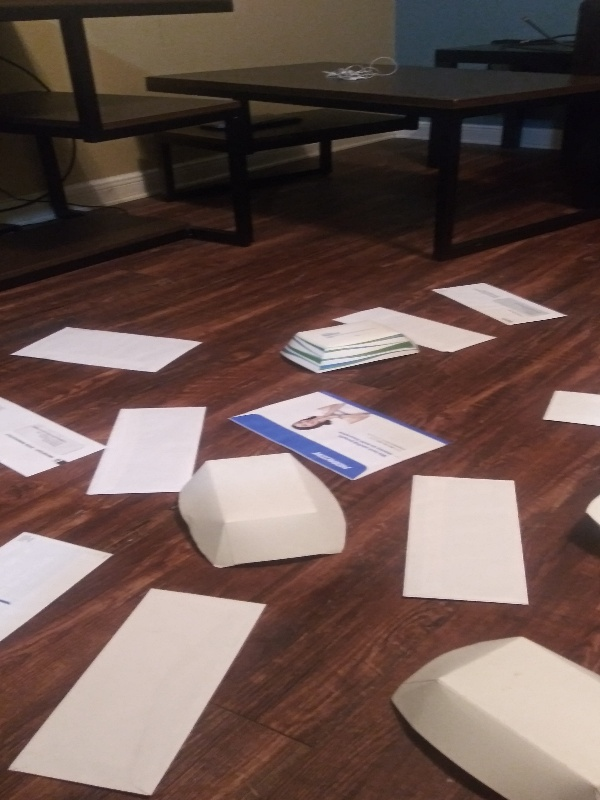plate: (387, 629, 600, 798), (171, 450, 352, 573), (278, 319, 421, 378), (580, 482, 600, 560)
